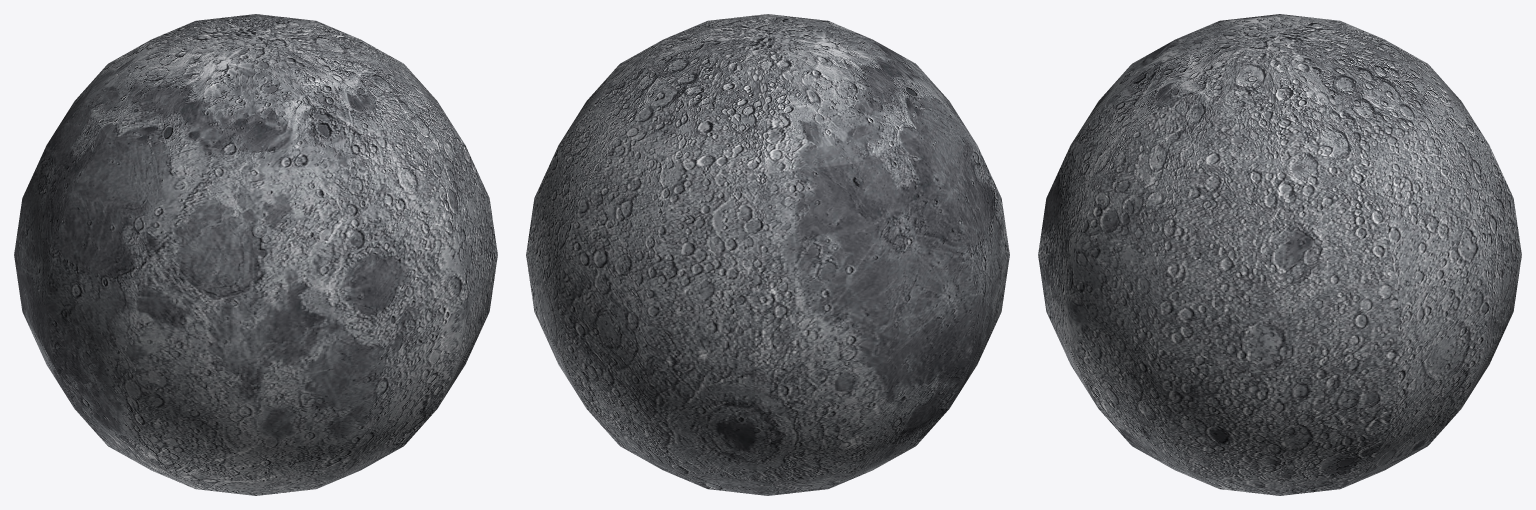
File: Star.dae
3 renders of one model, left to right at view 1: azimuth 30°, elevation 25°; view 2: azimuth 150°, elevation 25°; view 3: azimuth 270°, elevation 25°, orthographic.
Visible parts, largest first — view 1: Star1; view 2: Star1; view 3: Star1.
Part boxes in pixels (x1,y1,x2,y2): Star1: [14, 14, 497, 495]; Star1: [526, 14, 1009, 495]; Star1: [1038, 14, 1521, 495].
Bounding box in the file's own units: 8.12 × 8.12 × 8.12.
1 material, 1 textured.
